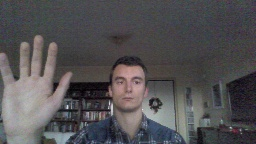Mano_aperta: (0, 30, 73, 140)
